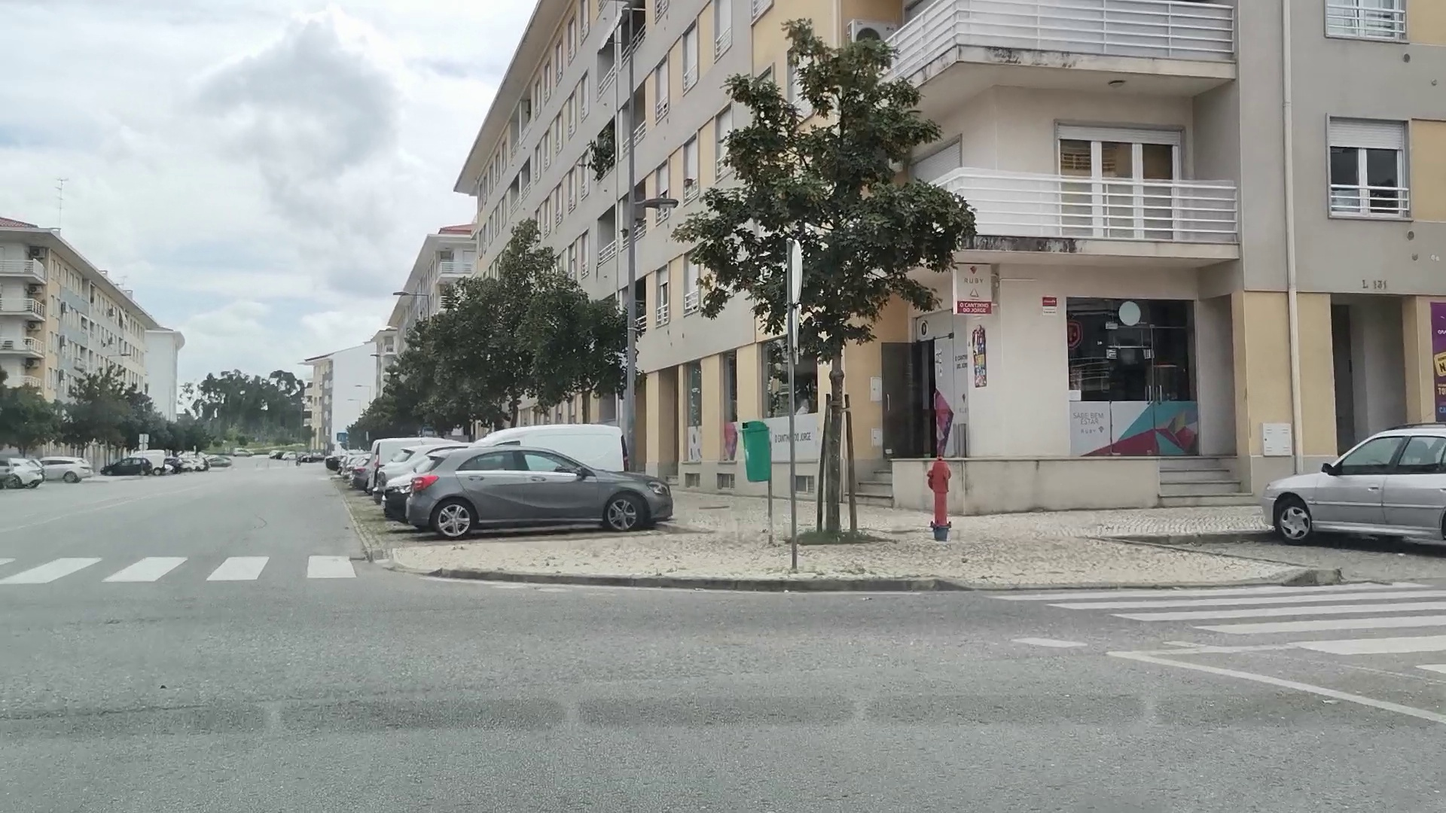Stairs: (988, 588, 1446, 675), (0, 556, 358, 581)
